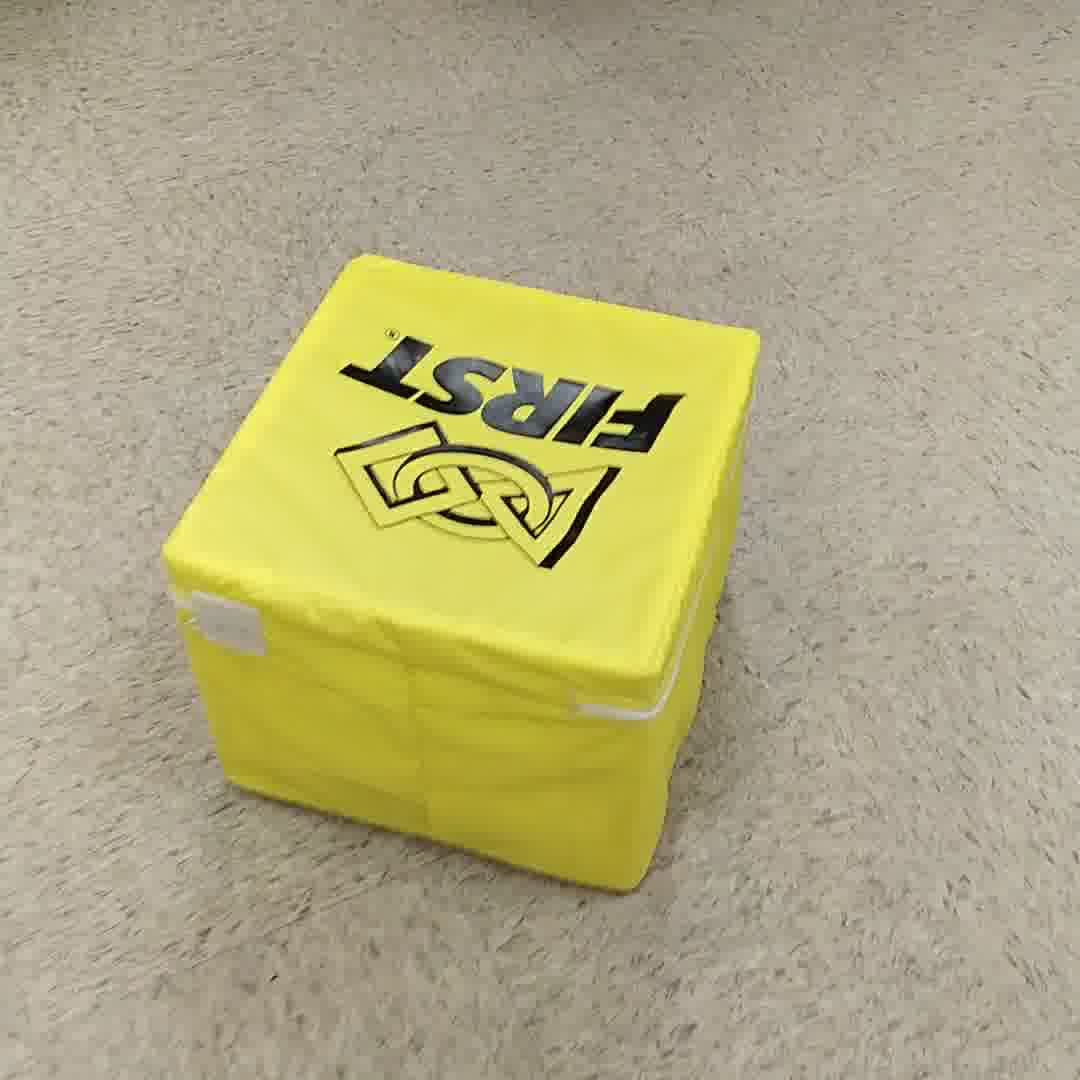box: (169, 253, 767, 899)
